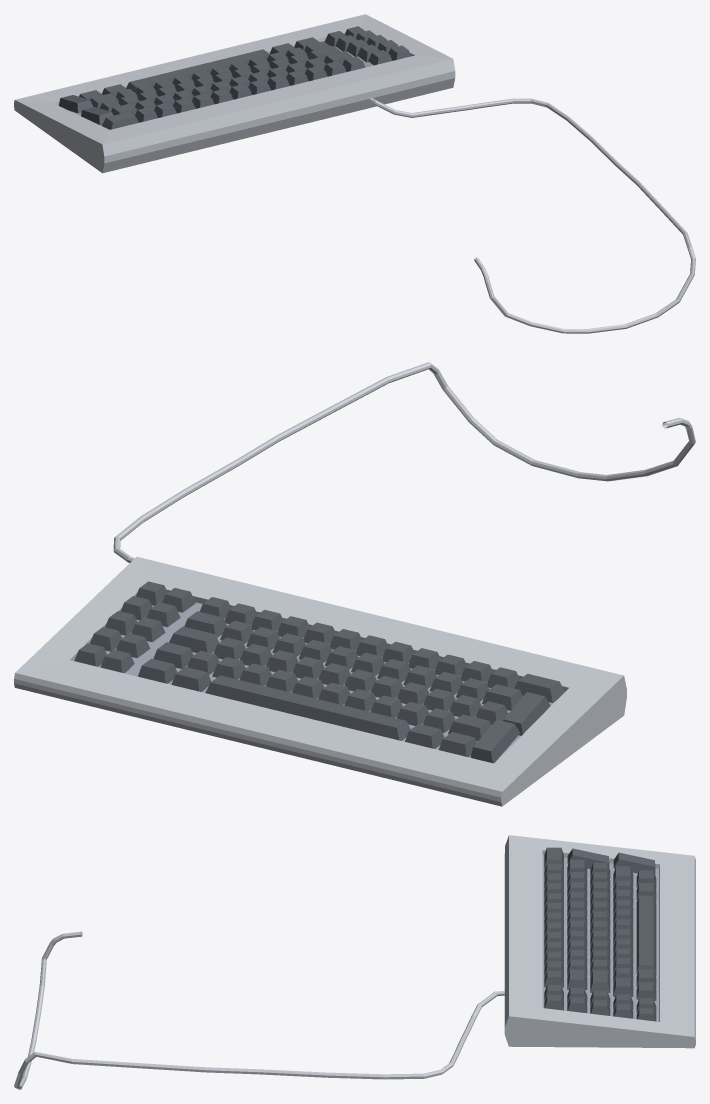
File: Keyboard_with_cord.fbx
3 views of the same model, one above another, from view 1: azimuth 30°, elevation 25°; view 2: azimuth 150°, elevation 25°; view 3: azimuth 270°, elevation 25° (orthographic). The views are drawn at different scales.
Visible parts, largest first — view 1: Keyboard, Cord.005; view 2: Keyboard, Cord.005; view 3: Keyboard, Cord.005.
Boxes of the visible parts, box(x1,y1,x2,y2) form: Keyboard: box(14, 14, 455, 173); Cord.005: box(368, 98, 695, 333); Keyboard: box(14, 556, 626, 806); Cord.005: box(113, 362, 695, 563); Keyboard: box(504, 835, 695, 1048); Cord.005: box(14, 931, 504, 1089).
Bounding box in the file's own units: 1.52 × 2.07 × 0.3208.
